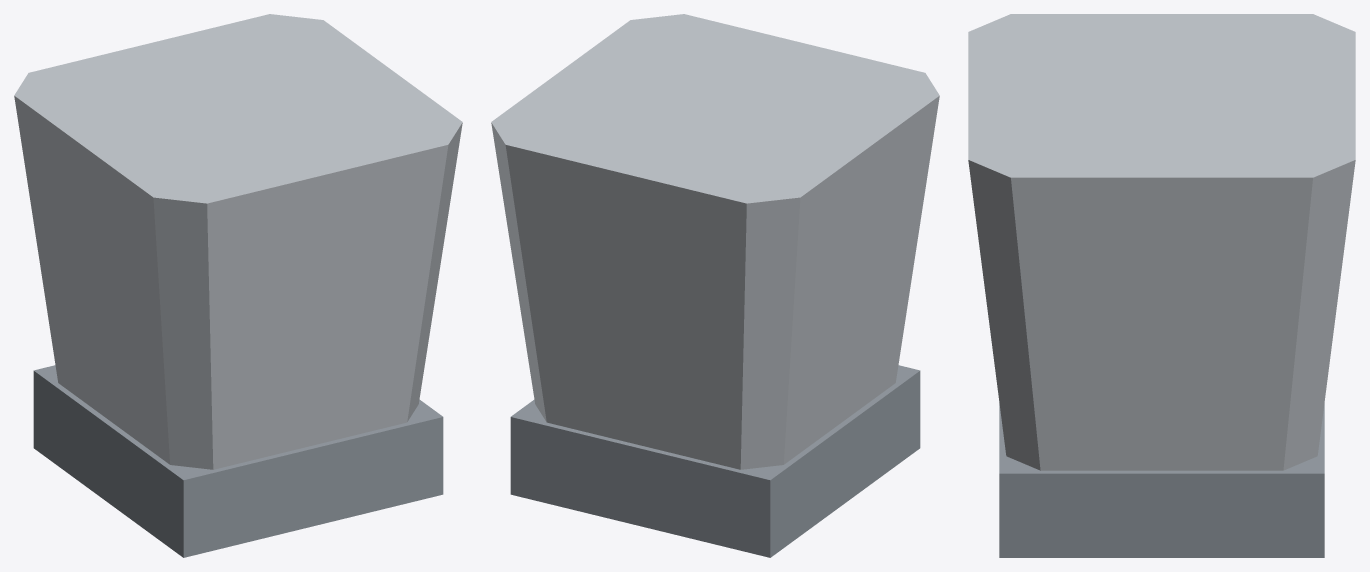
Rendered from pc_epi_lower_arm.fbx.
3 views of the same model, side by side, from view 1: azimuth 30°, elevation 25°; view 2: azimuth 150°, elevation 25°; view 3: azimuth 270°, elevation 25° (orthographic). The views are drawn at different scales.
Visible parts, largest first — view 1: pc_epi_lower_arm; view 2: pc_epi_lower_arm; view 3: pc_epi_lower_arm.
Boxes of the visible parts, x1=… form: pc_epi_lower_arm: x1=14, y1=14, x2=462, y2=557; pc_epi_lower_arm: x1=491, y1=14, x2=939, y2=557; pc_epi_lower_arm: x1=968, y1=14, x2=1355, y2=557.
Size of the model in its own units: 100 by 112 by 100.
